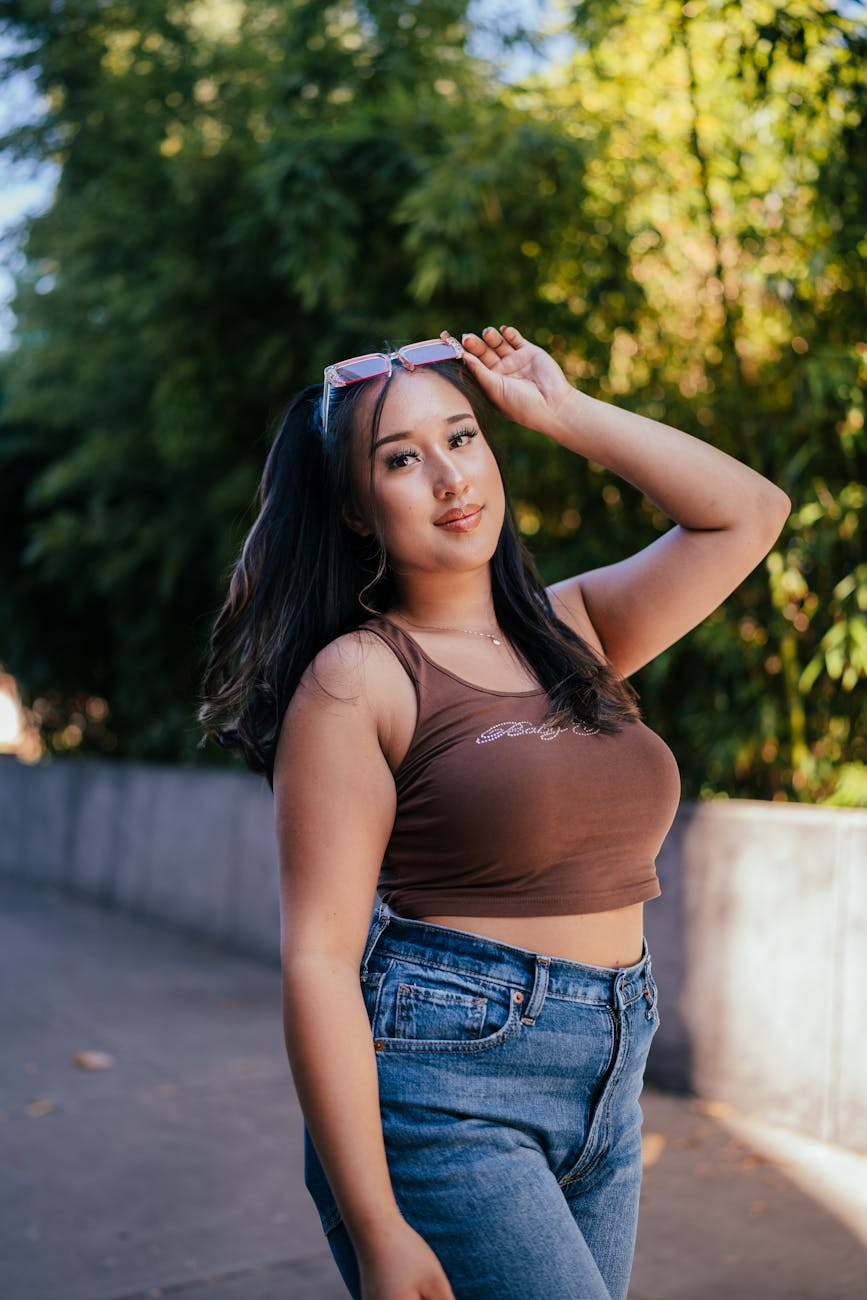crop_top: (330, 590, 693, 923)
